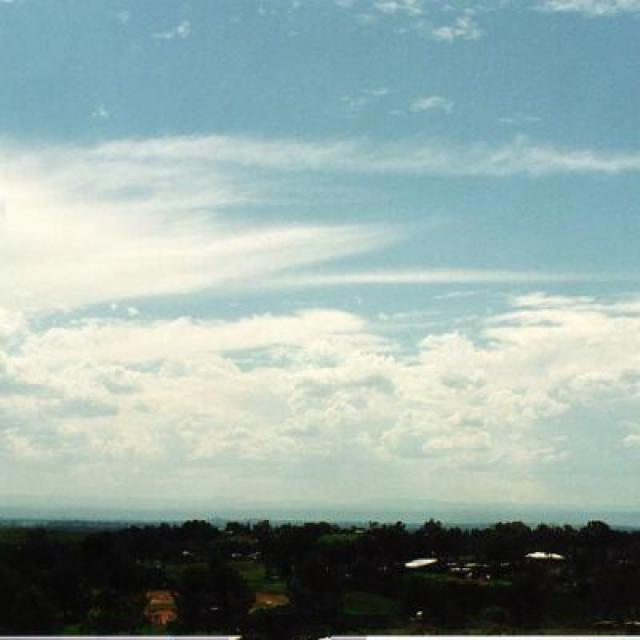Cs: (3, 118, 640, 499)
